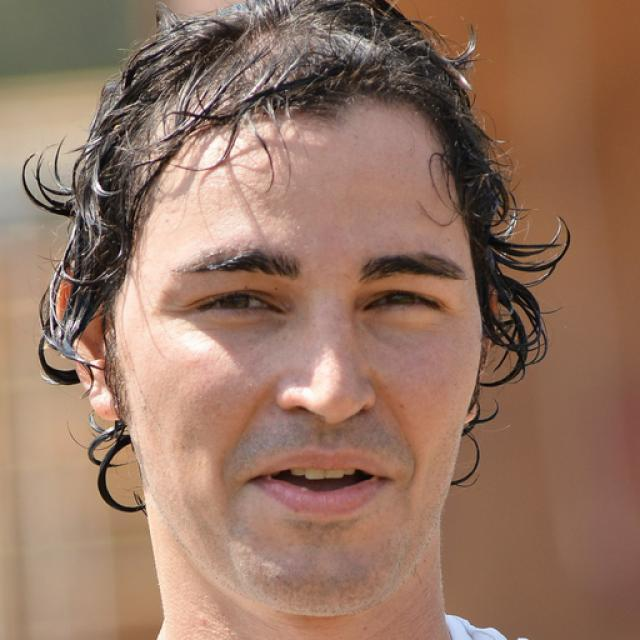disgust: (112, 90, 482, 618)
